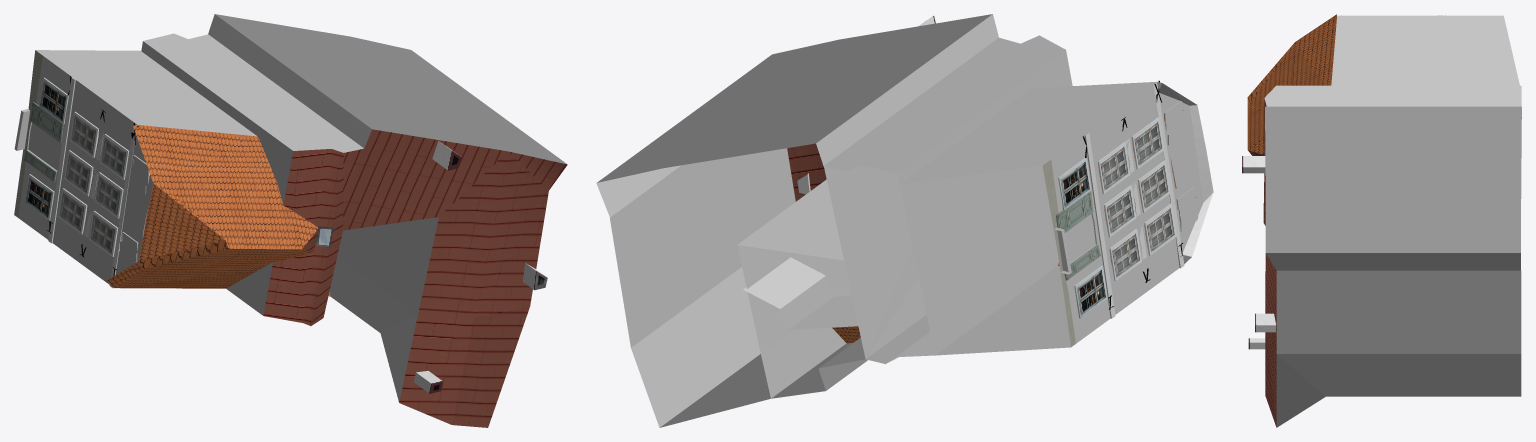
Rendered from Kullassepa_5-origo.obj.
3 renders of one model, left to right at view 1: azimuth 30°, elevation 25°; view 2: azimuth 150°, elevation 25°; view 3: azimuth 270°, elevation 25°, orthographic. The views are drawn at different scales.
Visible parts, largest first — view 1: Kullassepa_5; view 2: Kullassepa_5; view 3: Kullassepa_5.
Part boxes in pixels (x1,y1,x2,y2): Kullassepa_5: (14,14,567,427); Kullassepa_5: (596,14,1213,427); Kullassepa_5: (1242,14,1521,427).
Bounding box in the file's own units: 23.56 × 19 × 16.76.
